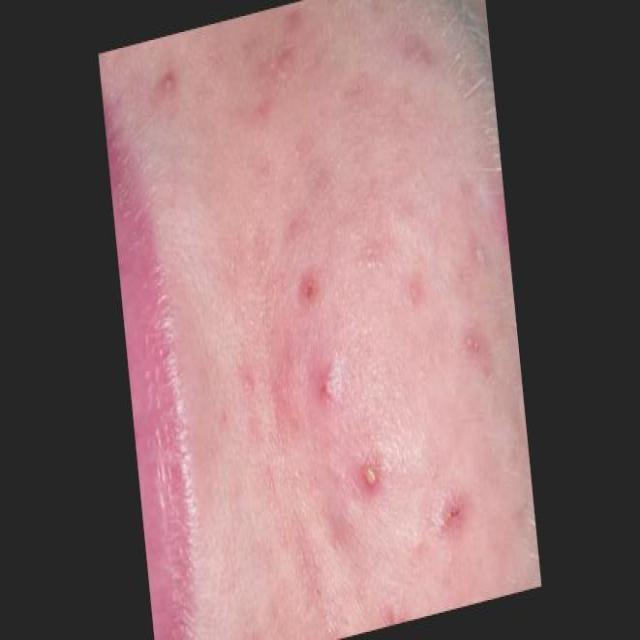Acne: (146, 12, 478, 528)
